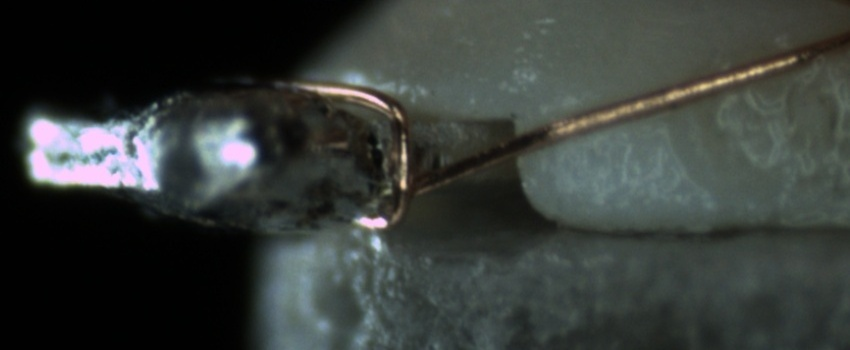TE: (269, 71, 415, 239)
